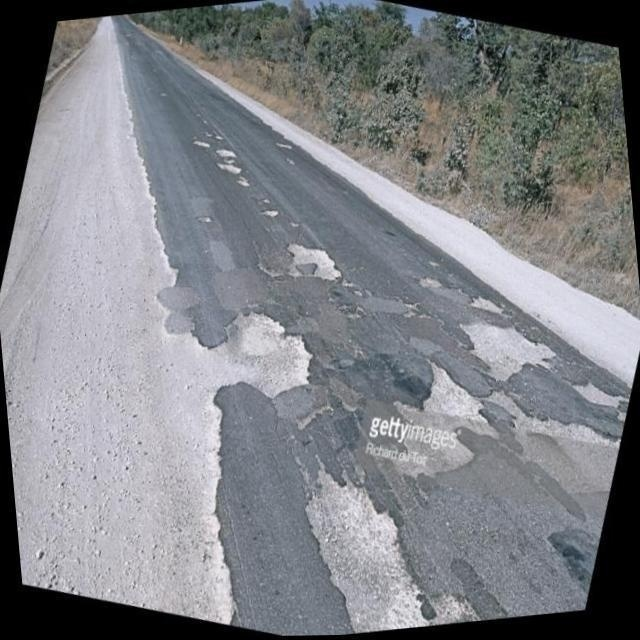pothole: (304, 481, 425, 636), (196, 310, 314, 402), (471, 327, 546, 382), (278, 231, 342, 295), (412, 363, 472, 429), (210, 136, 253, 197), (570, 371, 620, 417), (464, 288, 506, 318), (259, 204, 281, 224)
